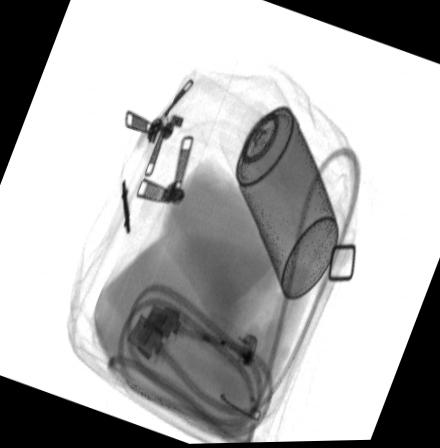Lighter: (197, 312, 263, 372)
Sprayer: (216, 70, 338, 299)
